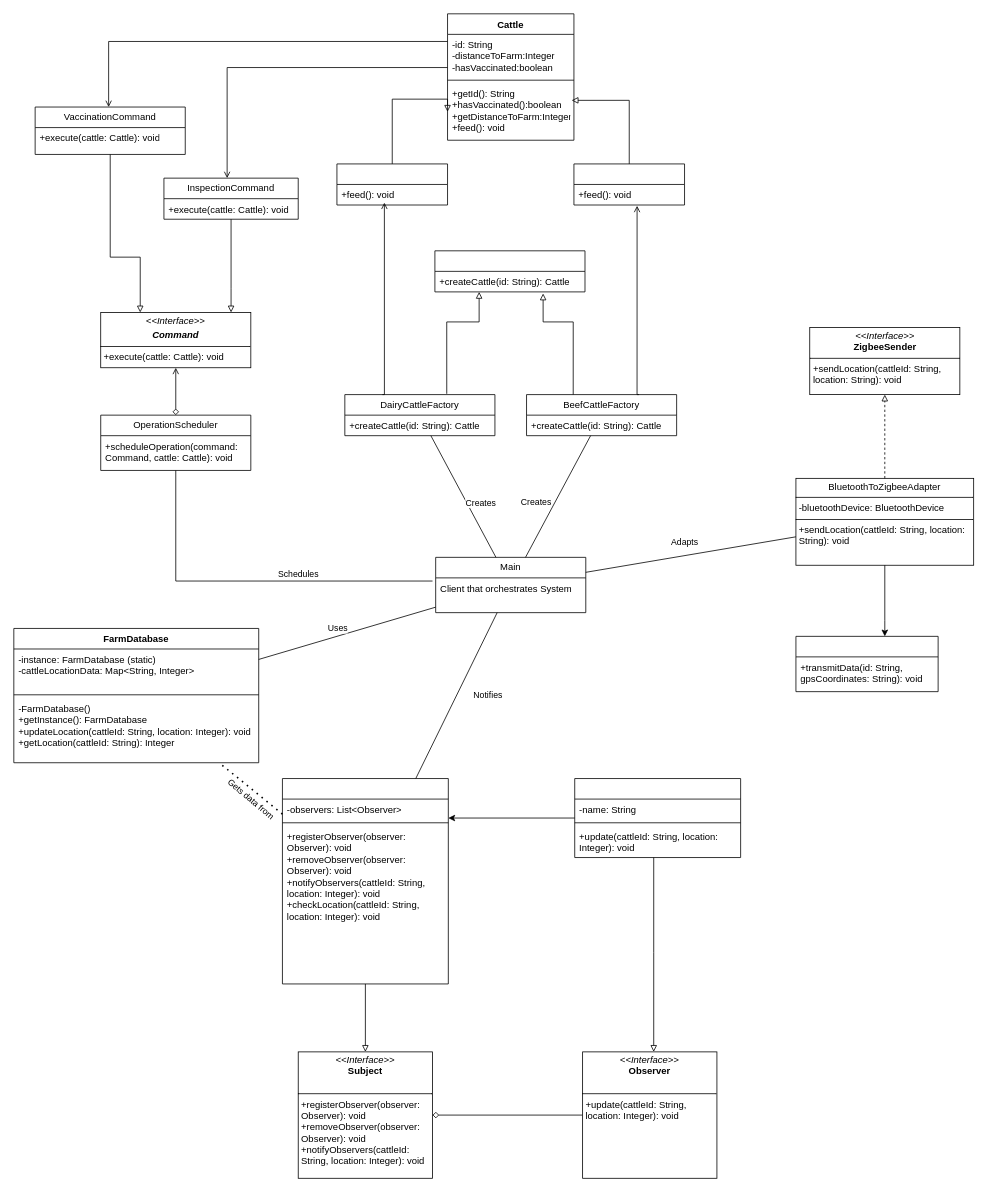
Image size: 988x1192. Some labels were removed from this diagram. The shapes that lost their labels are listed below. From the top down, each one's box as (x1, y1, x2, y2) in pixels, then its label:
(336, 163, 448, 205): DairyCattle
(573, 163, 685, 205): BeefCattle
(434, 250, 585, 292): CattleFactory
(795, 636, 938, 692): BluetoothDevice
(574, 778, 741, 858): Farmer
(282, 778, 448, 984): LocationTracker
